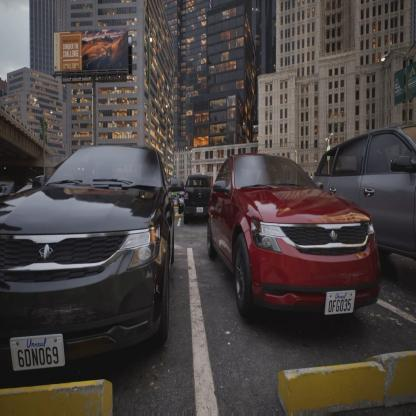License-Plate: (5, 327, 71, 377), (321, 284, 357, 318)
